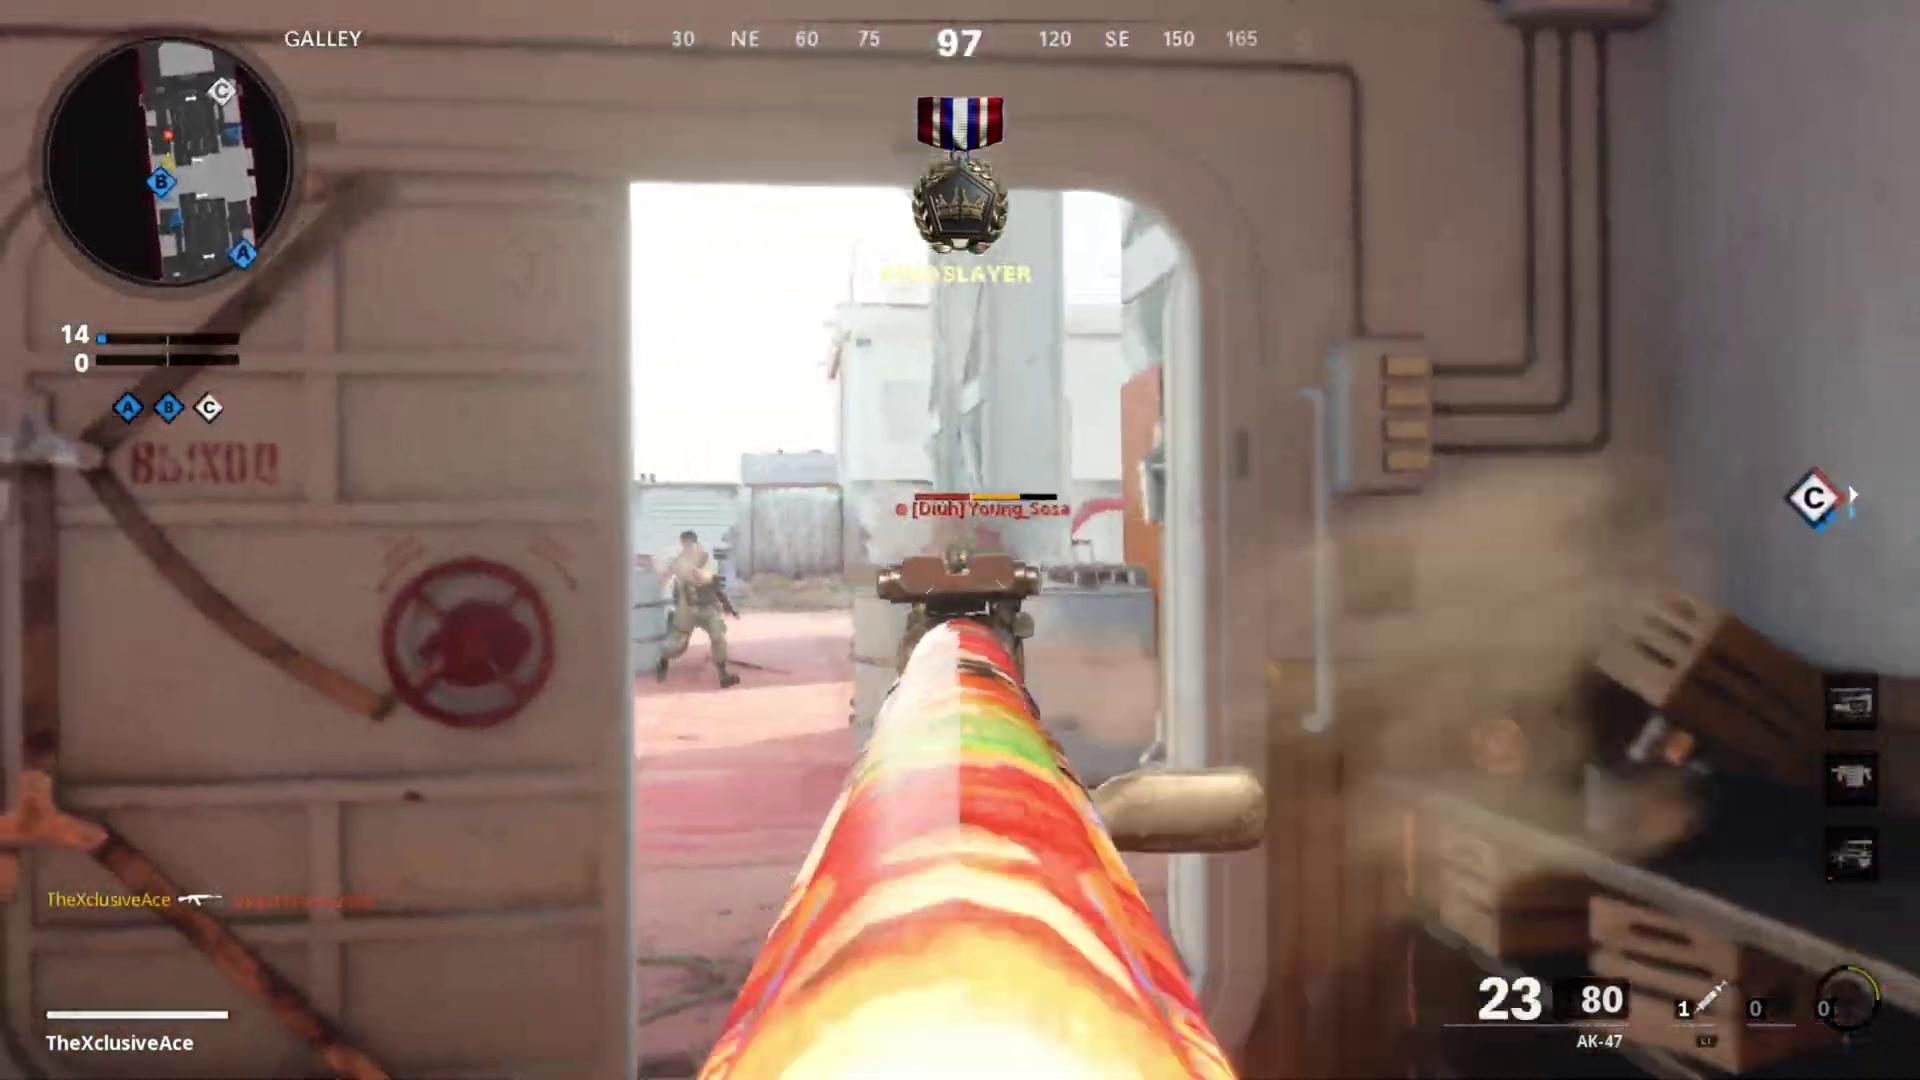head: (678, 525, 703, 565)
person: (653, 527, 735, 683)
